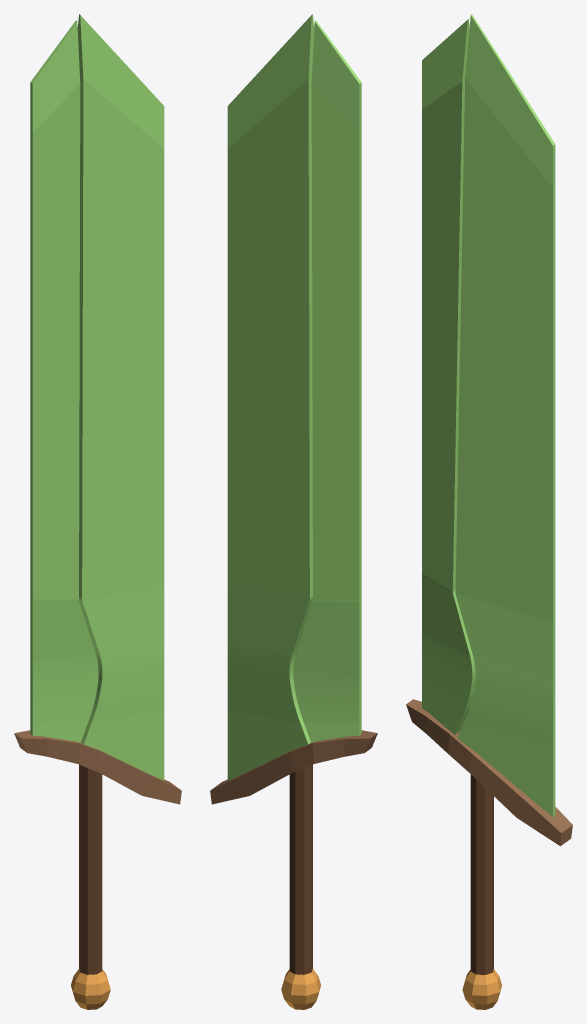
Rendered from free_two_handed_sword_3.fbx.
3 renders of one model, left to right at view 1: azimuth 30°, elevation 25°; view 2: azimuth 150°, elevation 25°; view 3: azimuth 330°, elevation 25°, orthographic.
Parts seen in each view (by area): view 1: free_two_handed_sword_3; view 2: free_two_handed_sword_3; view 3: free_two_handed_sword_3.
Boxes of the visible parts, left/top/right/bottom form: free_two_handed_sword_3: left=14, top=14, right=181, bottom=1009; free_two_handed_sword_3: left=210, top=14, right=377, bottom=1009; free_two_handed_sword_3: left=406, top=14, right=572, bottom=1009.
Size of the model in its own units: 0.3086 by 1.85 by 0.0723.
1 material, 1 textured.
